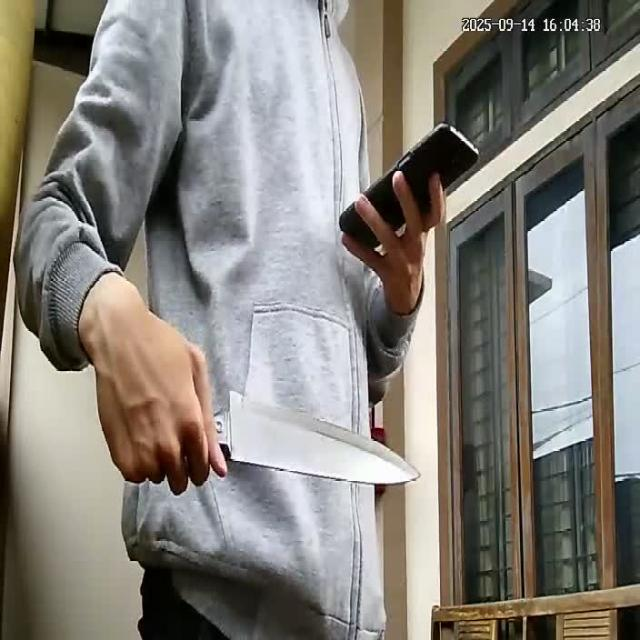senjata_tajam: (217, 387, 422, 488)
